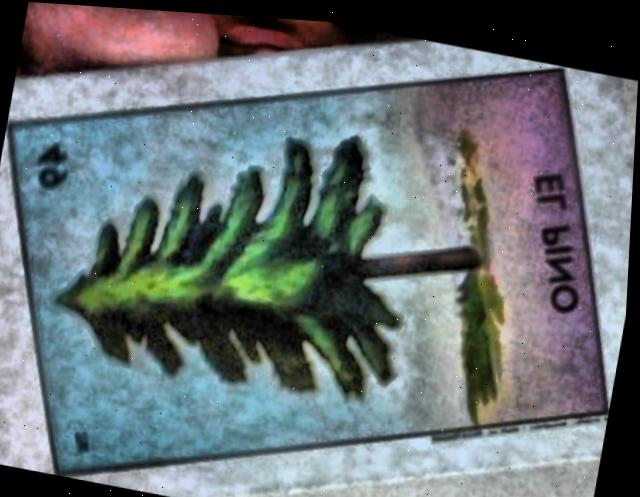El Pino: (11, 60, 611, 473)
